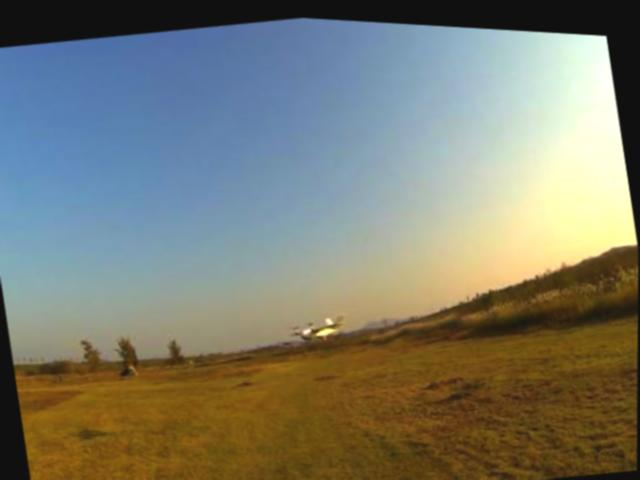uav: (282, 293, 356, 356)
